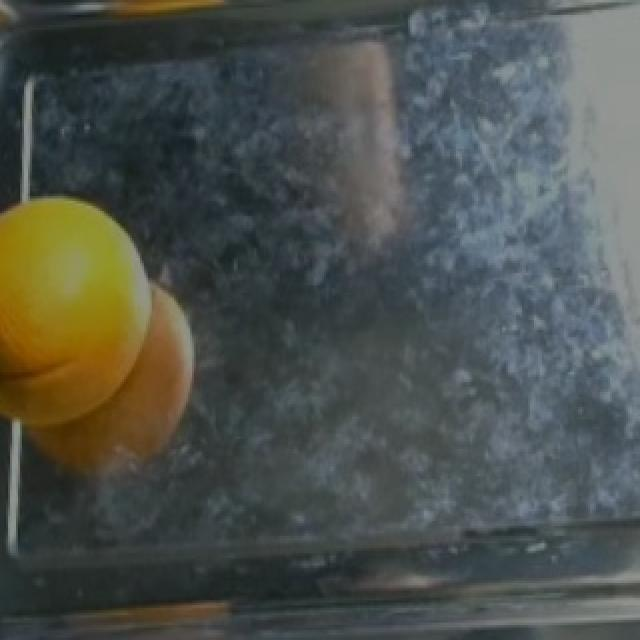Fruit: (2, 181, 162, 491)
